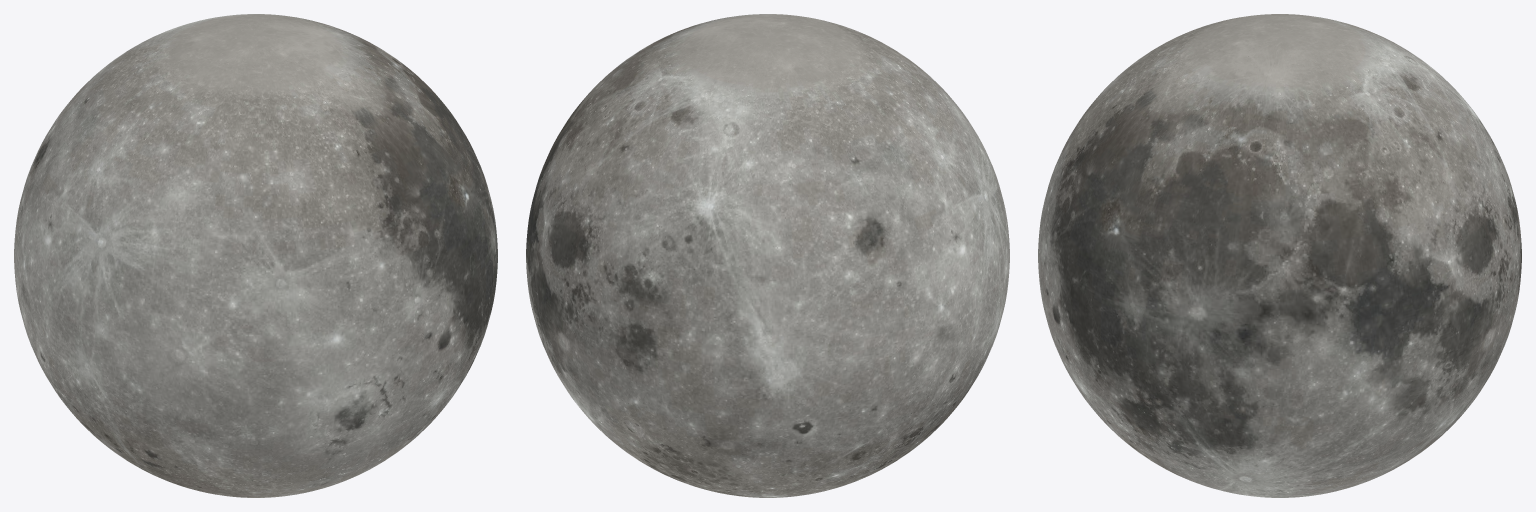
Rendered from moon.glb.
The picture shows the model from 3 angles, left to right: view 1: azimuth 30°, elevation 25°; view 2: azimuth 150°, elevation 25°; view 3: azimuth 270°, elevation 25°; orthographic projection.
Visible parts, largest first — view 1: moon; view 2: moon; view 3: moon.
Boxes of the visible parts, x1,y1,x2,y2 form: moon: (14,14,497,497); moon: (526,14,1009,497); moon: (1038,14,1521,497).
Bounding box in the file's own units: 10.57 × 10.57 × 10.57.
Materials: 1 (1 with a texture image).
